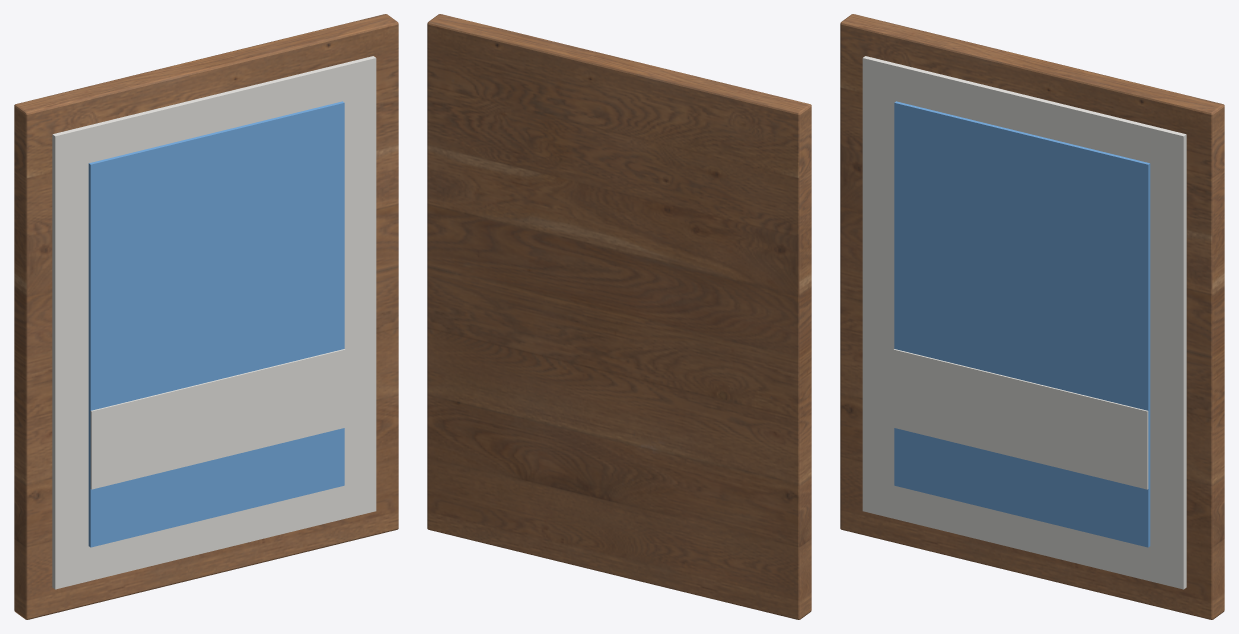
The model's file is wall_art_b.glb.
The picture shows the model from 3 angles, left to right: view 1: azimuth 30°, elevation 25°; view 2: azimuth 150°, elevation 25°; view 3: azimuth 330°, elevation 25°; orthographic projection.
Visible parts, largest first — view 1: WallArt_B; view 2: WallArt_B; view 3: WallArt_B.
Boxes of the visible parts, box(x1,y1,x2,y2) form: WallArt_B: box(14, 14, 398, 619); WallArt_B: box(427, 14, 811, 619); WallArt_B: box(840, 14, 1224, 619).
Bounding box in the file's own units: 0.6 × 0.78 × 0.0516.
Materials: 3 (1 with a texture image).
